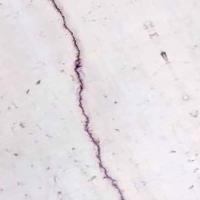crack: (40, 1, 138, 199)
